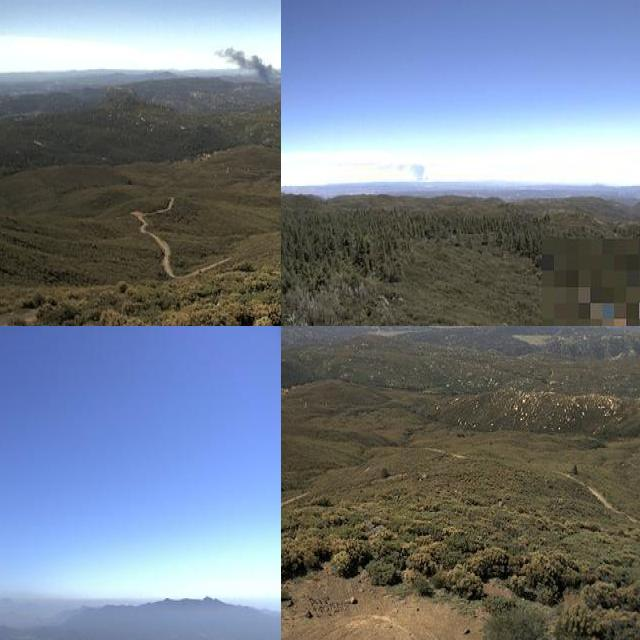smoke: (211, 41, 280, 94), (388, 158, 426, 185)
